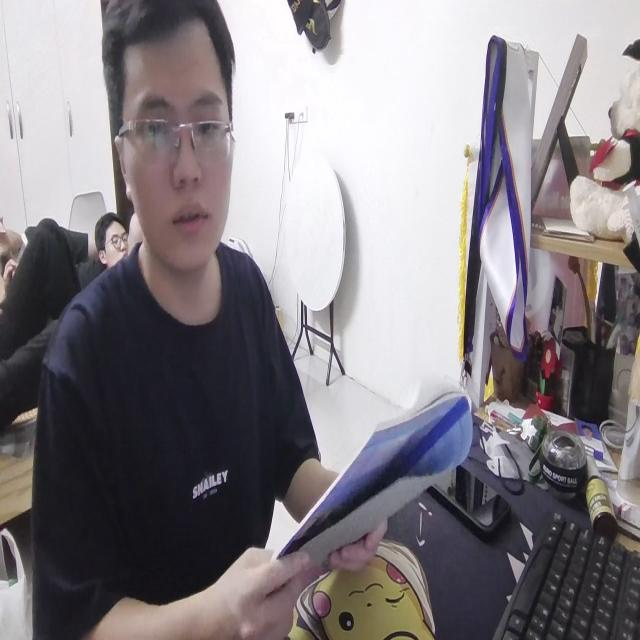book: (268, 369, 475, 577)
phone: (433, 454, 516, 554)
student: (26, 0, 384, 640)
